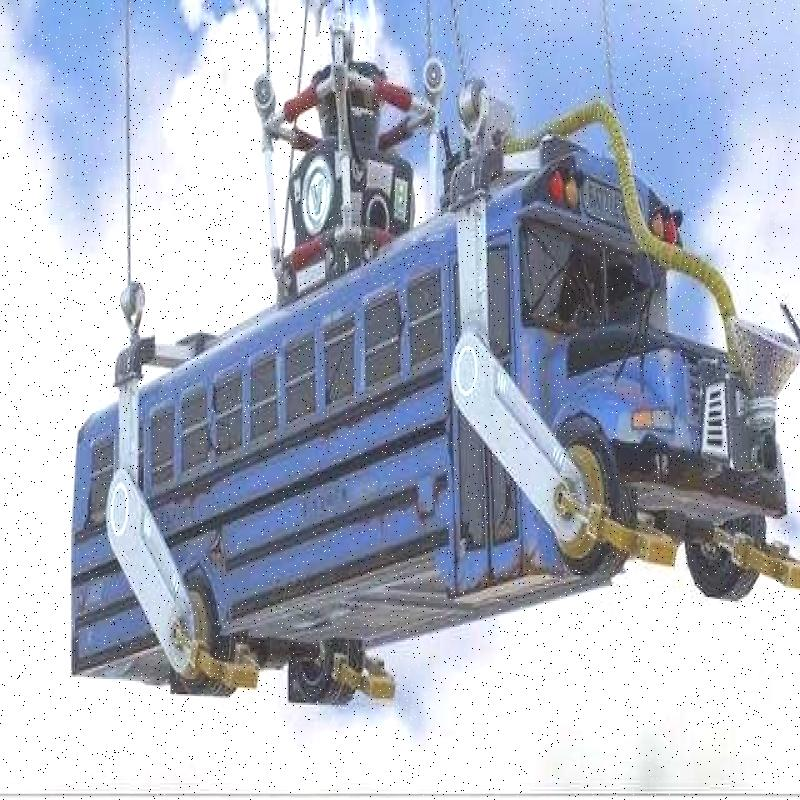bus: (82, 175, 800, 627)
